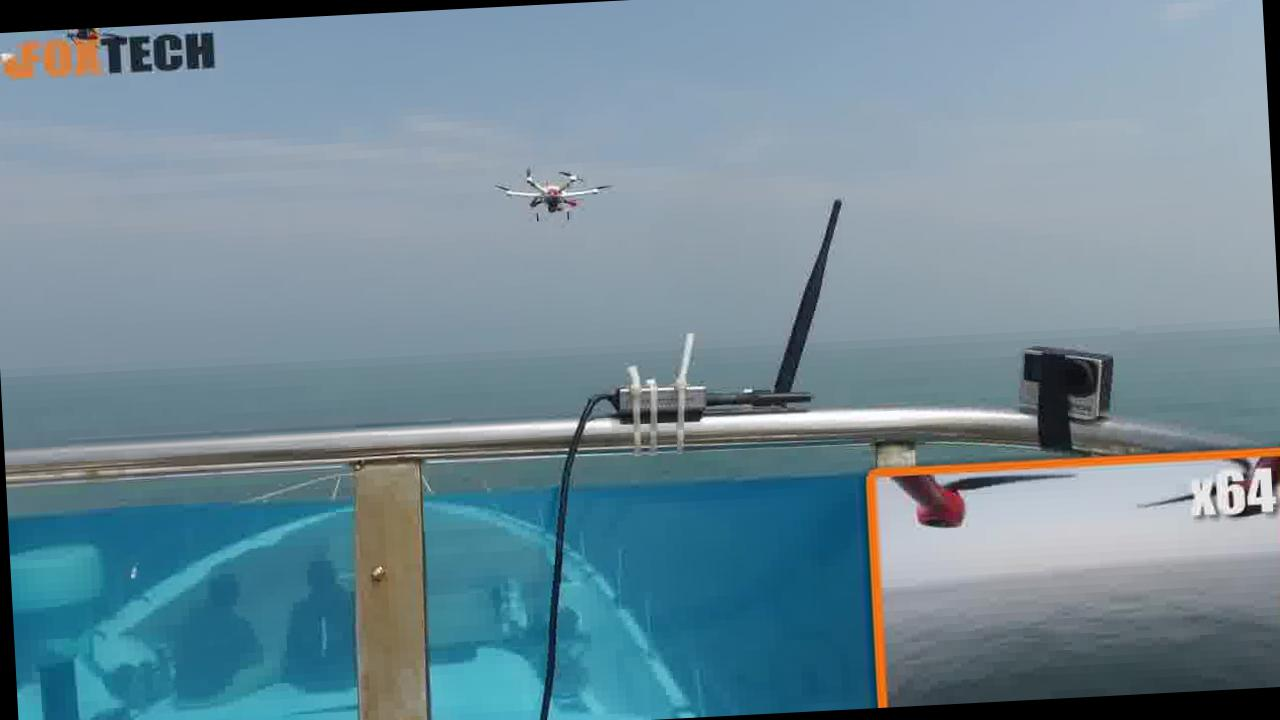drone: (482, 155, 618, 239)
